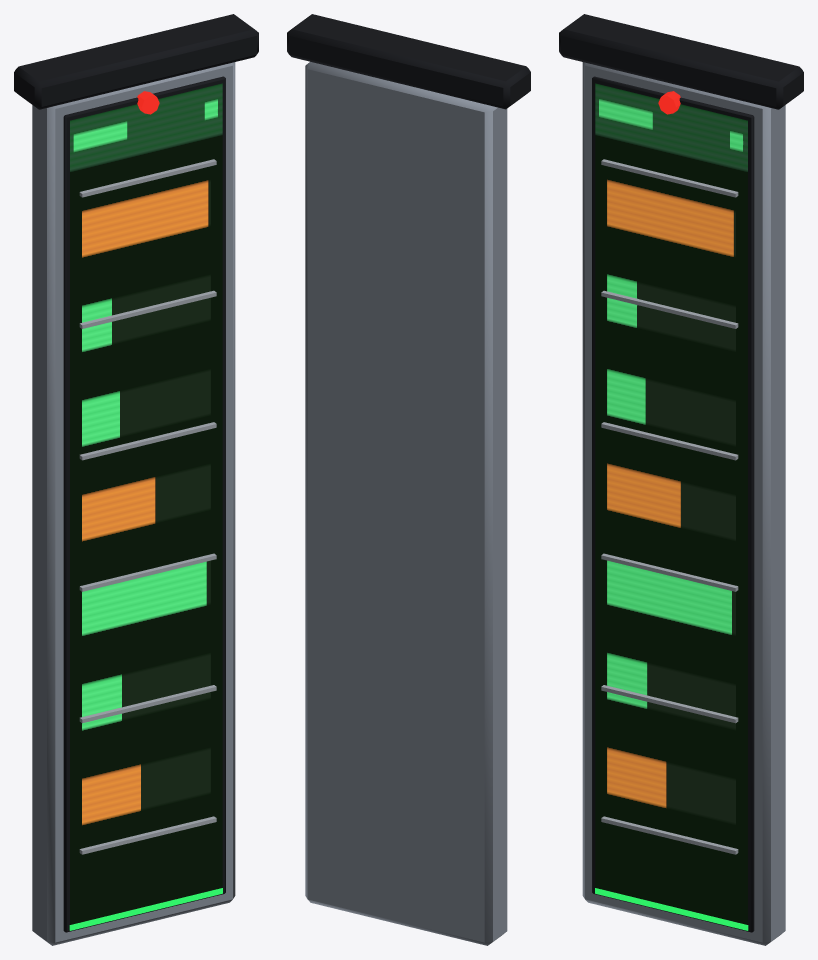
File: display_tall_readout.glb
3 views of the same model, side by side, from view 1: azimuth 30°, elevation 25°; view 2: azimuth 150°, elevation 25°; view 3: azimuth 330°, elevation 25° (orthographic).
Visible parts, largest first — view 1: display_tall_readout; view 2: display_tall_readout; view 3: display_tall_readout.
Part boxes in pixels (bbox=[...]): display_tall_readout: bbox=[14, 14, 258, 945]; display_tall_readout: bbox=[287, 14, 530, 945]; display_tall_readout: bbox=[559, 14, 803, 945].
Size of the model in its own units: 0.5 by 1.86 by 0.105.
Materials: 6 (1 with a texture image).
